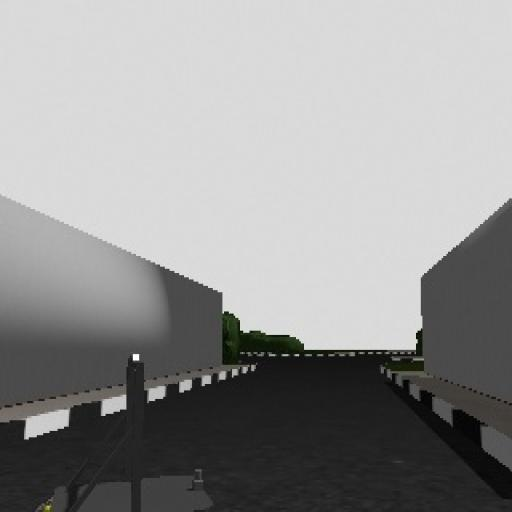huskya200: (26, 340, 223, 512)
